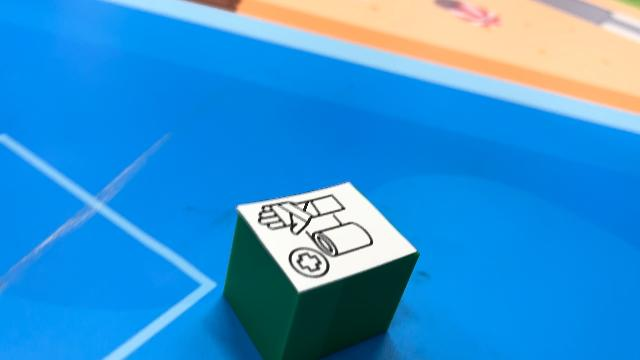bandage: (222, 180, 420, 360)
